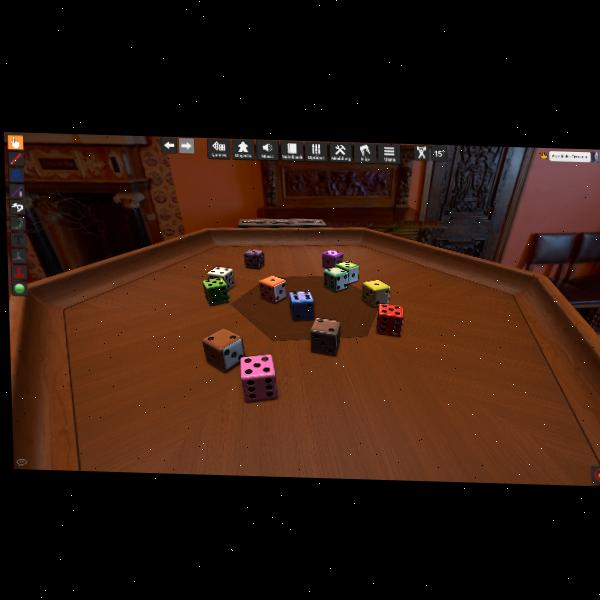d6: (202, 327, 244, 372), (240, 354, 278, 403), (309, 318, 339, 357), (376, 303, 404, 336), (258, 274, 287, 304), (361, 279, 390, 308), (203, 277, 230, 307), (288, 290, 313, 321), (207, 266, 233, 291), (324, 267, 348, 293), (336, 260, 360, 284), (243, 247, 264, 269), (322, 249, 343, 268)
